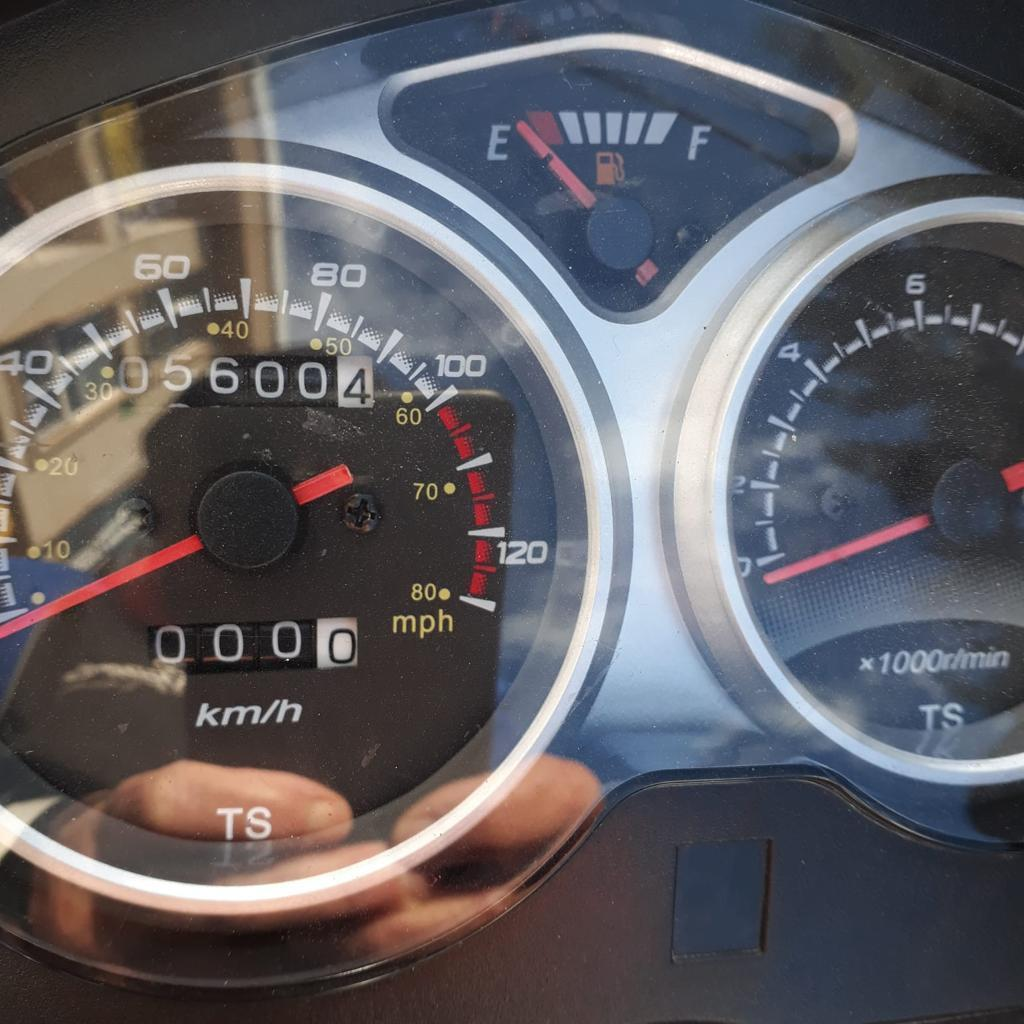0: (117, 355, 150, 395), (252, 360, 284, 399), (298, 360, 327, 399)
4: (342, 367, 370, 404)
5: (161, 353, 193, 392)
6: (208, 356, 240, 395)
odometer: (110, 350, 376, 410)
